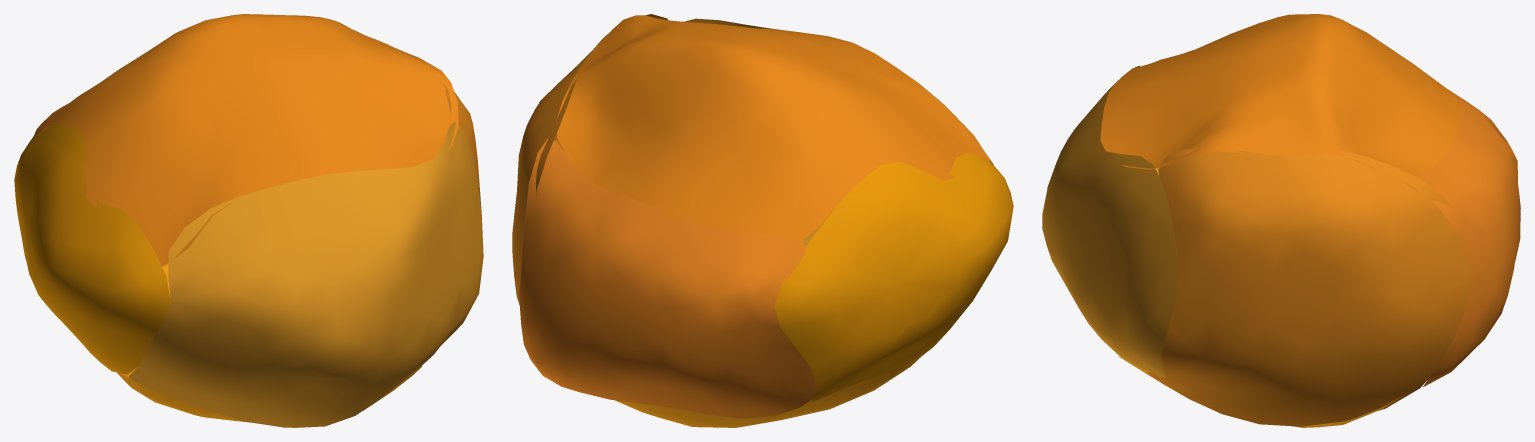
The model's file is karaage2_bunnretu.fbx.
3 renders of one model, left to right at view 1: azimuth 30°, elevation 25°; view 2: azimuth 150°, elevation 25°; view 3: azimuth 270°, elevation 25°, orthographic. The views are drawn at different scales.
Parts seen in each view (by area): view 1: Icosphere.001, Icosphere.003, Icosphere.006, Icosphere.004, Icosphere.002; view 2: Icosphere.003, Icosphere.005, Icosphere.006, Icosphere.002, Icosphere.004, Icosphere.001; view 3: Icosphere.002, Icosphere.003, Icosphere.001, Icosphere.005.
Part boxes in pixels (x1,y1,x2,y2): Icosphere.001: (128, 122, 483, 427); Icosphere.003: (47, 14, 458, 266); Icosphere.006: (14, 124, 170, 374); Icosphere.004: (115, 264, 422, 427); Icosphere.002: (400, 50, 482, 222); Icosphere.003: (557, 15, 989, 241); Icosphere.005: (519, 138, 819, 418); Icosphere.006: (774, 152, 1013, 401); Icosphere.002: (512, 14, 667, 304); Icosphere.004: (615, 356, 921, 427); Icosphere.001: (684, 18, 993, 354); Icosphere.002: (1147, 148, 1470, 426); Icosphere.003: (1100, 14, 1461, 175); Icosphere.001: (1042, 66, 1177, 378); Icosphere.005: (1401, 89, 1520, 387).
Size of the model in its own units: 319 by 284 by 334.
